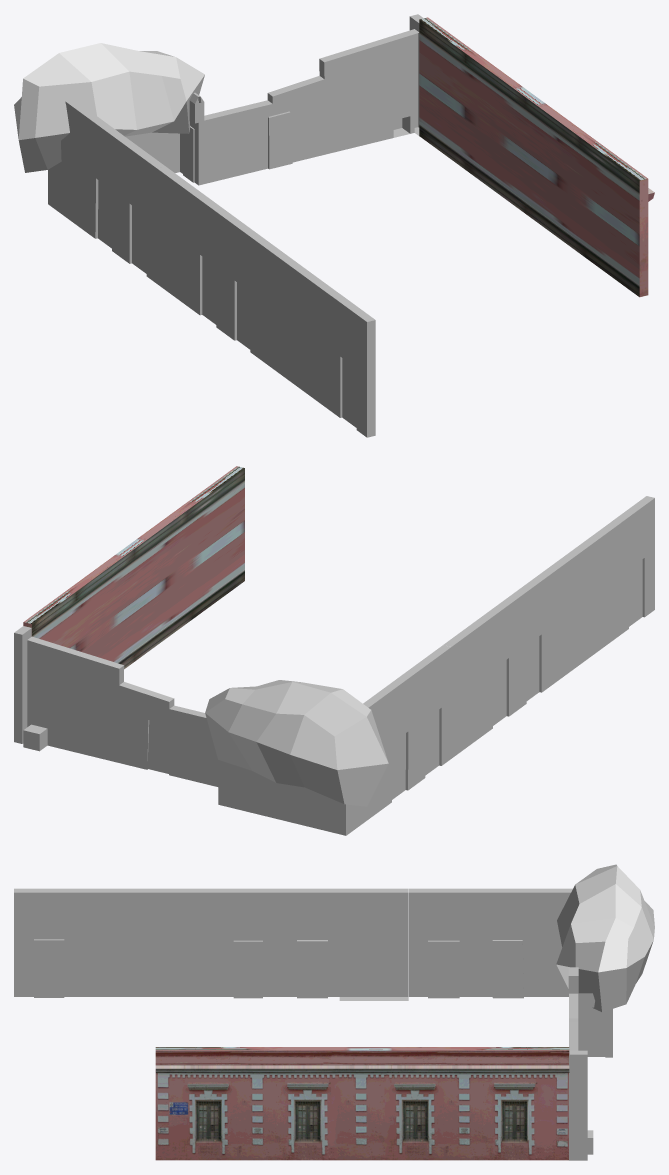
The model's file is Building_PjsRevol.fbx.
3 views of the same model, one above another, from view 1: azimuth 30°, elevation 25°; view 2: azimuth 150°, elevation 25°; view 3: azimuth 270°, elevation 25° (orthographic). The views are drawn at different scales.
Parts seen in each view (by area): view 1: pared_PjsRevol02.003, Cube.033, Cube.041, pared_PjsRevol02.004, Cube.028, Cube.040, Cube.042, Cube.001, Doors.001, door, Door_Bathroom; view 2: Cube.033, pared_PjsRevol02.003, pared_PjsRevol02.004, Cube.041, Cube.028, Cube.040, Cube.042, Cube.001, Doors.001, door, Door_Bathroom; view 3: pared_PjsRevol02.003, Cube.041, Cube.028, pared_PjsRevol02.004, Cube.040, Cube.042, Cube.001, Doors.001, Cube.033, Door_Bathroom, pared_PjsRevol02.002, pared_PjsRevol02.001.
Part boxes in pixels (box(x1,y1,x2,y2)): pared_PjsRevol02.003: box(419, 17, 654, 297); Cube.033: box(125, 14, 423, 185); Cube.041: box(193, 193, 339, 410); pared_PjsRevol02.004: box(14, 43, 204, 172); Cube.028: box(48, 101, 164, 283); Cube.040: box(156, 166, 201, 310); Cube.042: box(331, 294, 375, 437); Cube.001: box(98, 180, 146, 273); Doors.001: box(202, 256, 250, 349); door: box(269, 112, 292, 169); Door_Bathroom: box(342, 358, 356, 427); Cube.033: box(14, 626, 345, 835); pared_PjsRevol02.003: box(23, 466, 244, 668); pared_PjsRevol02.004: box(205, 680, 388, 806); Cube.041: box(479, 521, 620, 732); Cube.028: box(346, 645, 451, 835); Cube.040: box(443, 619, 486, 758); Cube.042: box(612, 496, 654, 634); Cube.001: box(392, 709, 439, 799); Doors.001: box(493, 636, 539, 725); door: box(147, 720, 168, 773); Door_Bathroom: box(629, 559, 642, 626); pared_PjsRevol02.003: box(155, 1047, 569, 1160); Cube.041: box(81, 888, 339, 996); Cube.028: box(409, 888, 572, 996); pared_PjsRevol02.004: box(556, 864, 654, 1012); Cube.040: box(339, 888, 408, 1000); Cube.042: box(14, 888, 81, 996); Cube.001: box(428, 941, 523, 998); Doors.001: box(233, 941, 327, 998); Cube.033: box(568, 967, 593, 1160); Door_Bathroom: box(34, 940, 64, 997); pared_PjsRevol02.002: box(585, 1007, 605, 1056); pared_PjsRevol02.001: box(578, 993, 612, 1057).
Bounding box in the file's own units: 46.34 × 16.27 × 68.49.
